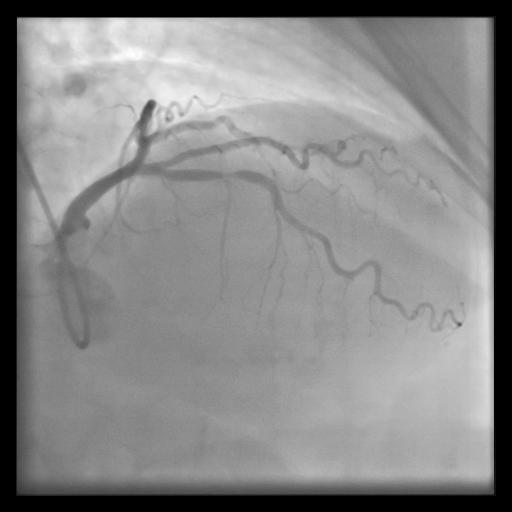Stenosis: (217, 163, 242, 184)
